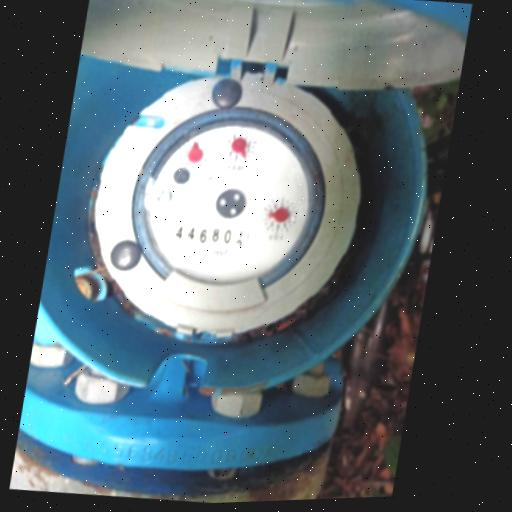0: (222, 229, 237, 248)
1: (234, 230, 248, 249)
4: (173, 225, 188, 244), (186, 226, 200, 245)
6: (198, 228, 211, 246)
8: (209, 228, 223, 246)
border_water_meter_number: (172, 221, 251, 252)
